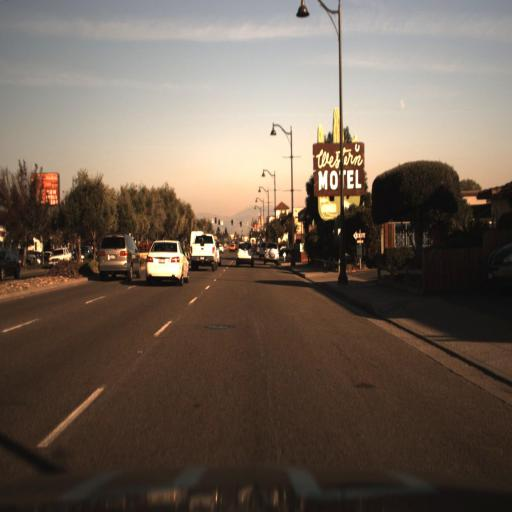car: (144, 234, 191, 285), (98, 231, 142, 281), (190, 229, 221, 273), (234, 241, 258, 271), (0, 248, 21, 279), (47, 245, 71, 270), (263, 242, 279, 266)
